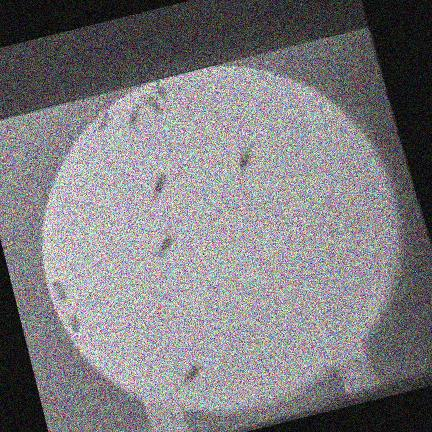fly: (183, 361, 202, 385), (157, 233, 174, 256), (151, 172, 166, 198), (238, 145, 251, 173), (95, 110, 111, 130), (127, 104, 141, 126), (145, 94, 161, 112), (53, 279, 66, 300), (155, 80, 167, 97), (67, 314, 79, 330)
